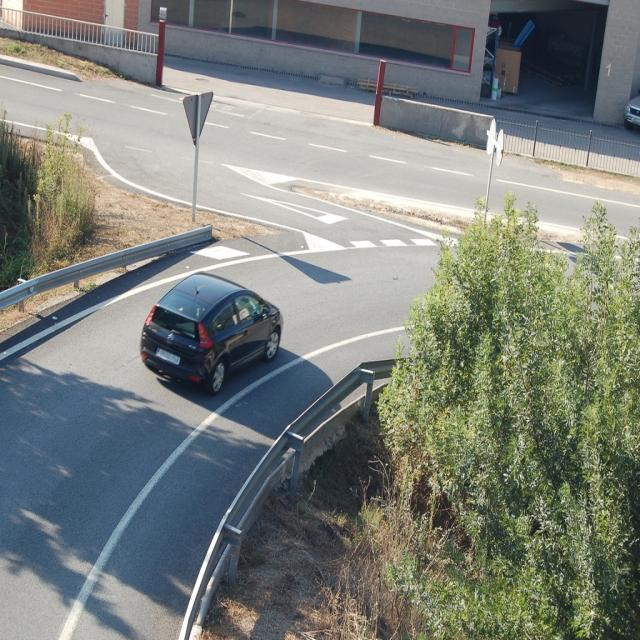car: (120, 272, 278, 393)
